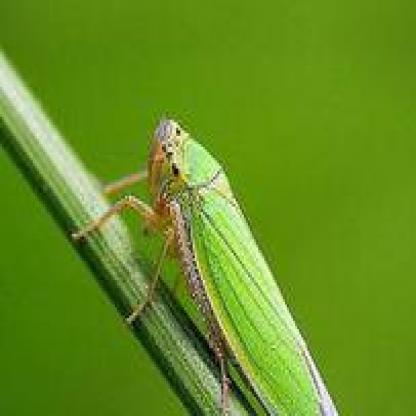Green-Leafhopper: (60, 111, 340, 416)
